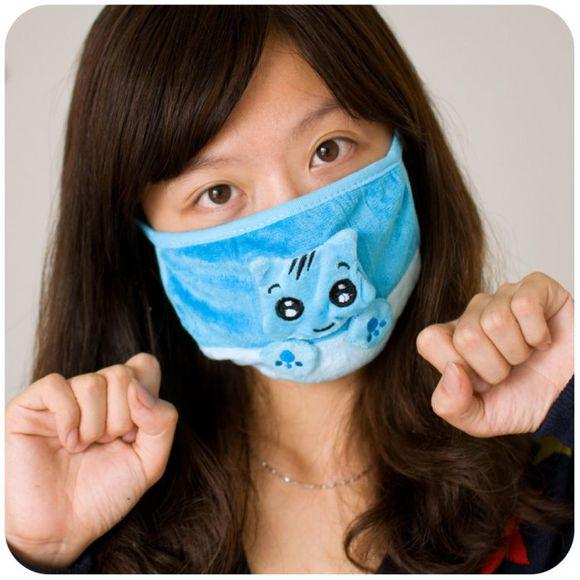OK: (163, 106, 432, 371)
